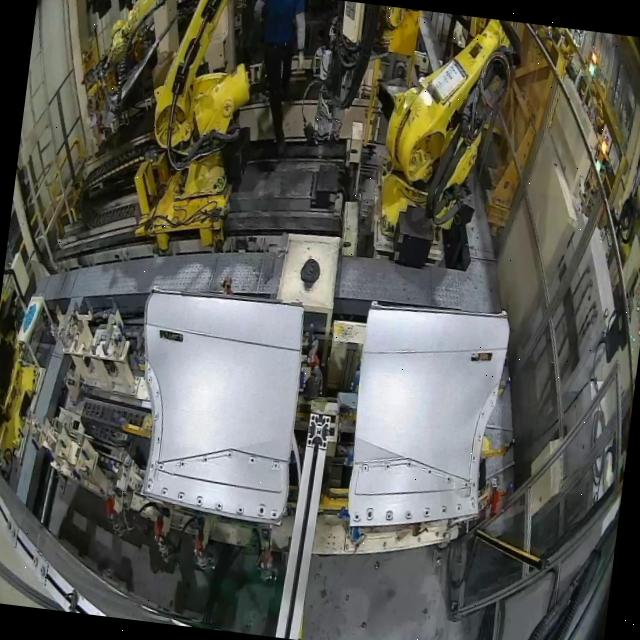Person: (236, 0, 312, 156)
